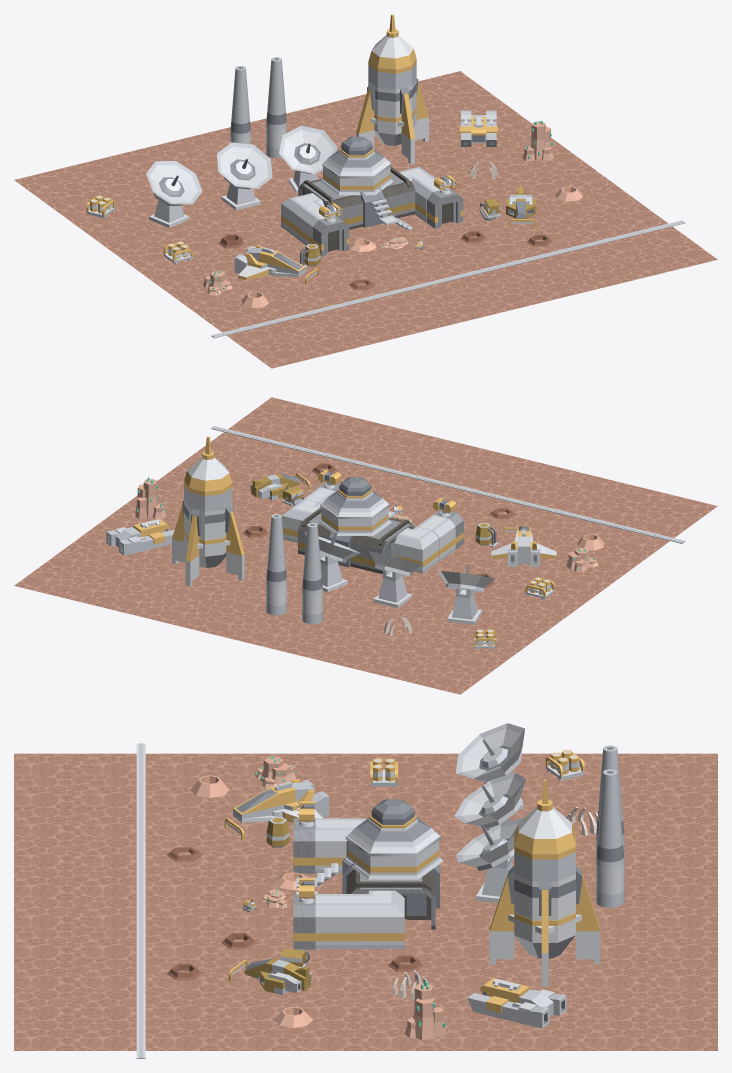
File: espacio.fbx
3 renders of one model, top to bottom at view 1: azimuth 30°, elevation 25°; view 2: azimuth 150°, elevation 25°; view 3: azimuth 270°, elevation 25°, orthographic. The views are drawn at different scales.
Parts seen in each view (by area): view 1: terrain, rocket_baseA1, hangar_largeB, satelliteDish_large, satelliteDish_large2, hangar_roundA, satelliteDish_large1, monorail_trackStraight, craft_speederA, chimney_detailed, corridor_corner1, chimney_detailed1 (+7 smaller); view 2: terrain, rocket_baseA1, hangar_roundA, corridor_corner1, monorail_trackStraight, hangar_largeB, chimney_detailed, chimney_detailed1, satelliteDish_large2, craft_cargoB, satelliteDish_large, craft_speederA (+6 smaller); view 3: terrain, rocket_baseA1, corridor_corner2, hangar_roundA, chimney_detailed, craft_cargoB, monorail_trackStraight, satelliteDish_large2, satelliteDish_large1, craft_speederA, satelliteDish_large, corridor_corner1 (+12 smaller).
Boxes of the visible parts, box(x1,y1,x2,y2) form: terrain: box(14, 71, 717, 368); rocket_baseA1: box(356, 14, 428, 164); hangar_largeB: box(298, 172, 415, 229); satelliteDish_large: box(217, 142, 272, 210); satelliteDish_large2: box(146, 161, 202, 227); hangar_roundA: box(320, 149, 393, 195); satelliteDish_large1: box(279, 125, 337, 193); monorail_trackStraight: box(211, 220, 685, 338); craft_speederA: box(234, 245, 305, 280); chimney_detailed: box(266, 57, 286, 158); corridor_corner1: box(281, 193, 335, 245); chimney_detailed1: box(230, 65, 250, 144); terrain: box(14, 397, 717, 694); rocket_baseA1: box(172, 436, 244, 586); hangar_roundA: box(318, 490, 391, 535); corridor_corner1: box(394, 515, 455, 573); monorail_trackStraight: box(211, 426, 685, 543); hangar_largeB: box(298, 513, 415, 573); chimney_detailed: box(266, 514, 286, 615); chimney_detailed1: box(302, 522, 322, 624); satelliteDish_large2: box(437, 564, 495, 624); craft_cargoB: box(106, 518, 174, 555); satelliteDish_large: box(369, 547, 423, 607); craft_speederA: box(491, 526, 556, 566); terrain: box(14, 753, 717, 1050); rocket_baseA1: box(489, 779, 600, 986); corridor_corner2: box(315, 890, 404, 949); hangar_roundA: box(343, 816, 443, 879); chimney_detailed: box(596, 769, 624, 907); craft_cargoB: box(467, 978, 566, 1028); monorail_trackStraight: box(136, 743, 145, 1058); satelliteDish_large2: box(455, 723, 524, 809); satelliteDish_large1: box(456, 818, 522, 902); craft_speederA: box(233, 779, 329, 822); satelliteDish_large: box(454, 772, 525, 859); corridor_corner1: box(315, 818, 366, 873).
Bounding box in the file's own units: 1671 × 456 × 1583.
89 materials, 12 textured.
